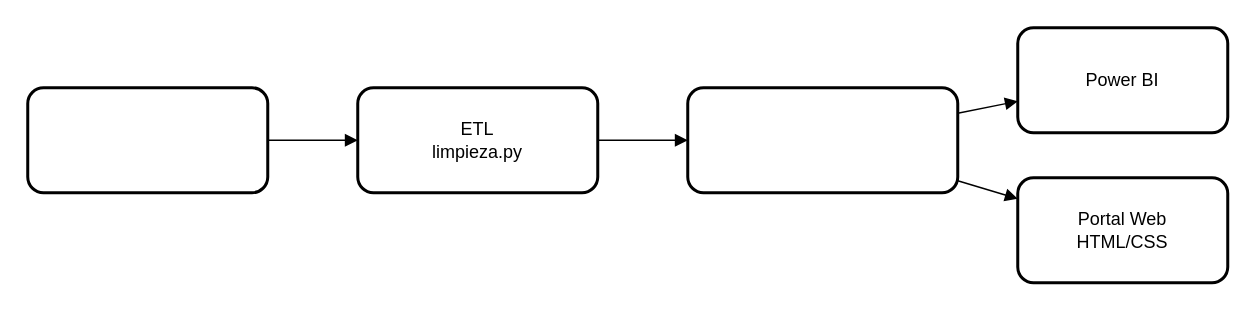
Image size: 1254x309. Some labels were removed from this diagram. Here are the shapes that lost their labels. From the top down, the box of each, then its label:
(26, 86, 268, 194): Ingesta Datos.csv
(686, 86, 958, 194): DB Analitica PostgreSQL
